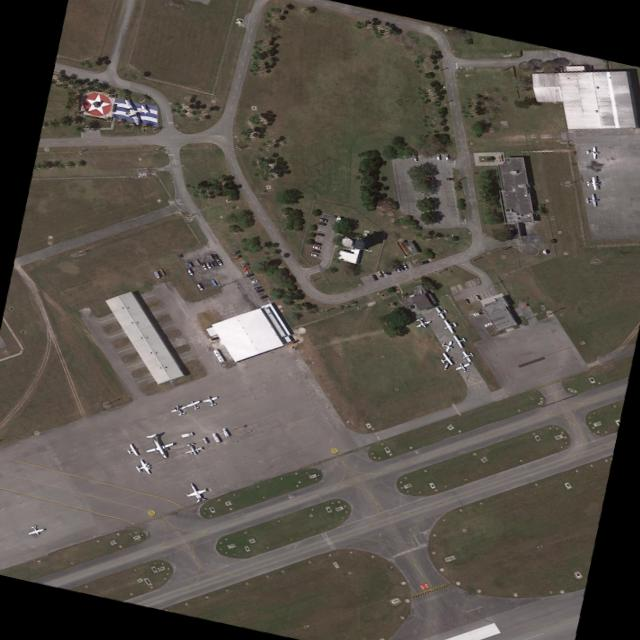large-vehicle: (210, 431, 219, 442), (179, 430, 192, 437), (220, 427, 228, 436)
plane: (137, 429, 178, 462), (119, 95, 152, 125), (180, 479, 209, 504), (130, 456, 154, 476), (180, 439, 204, 457), (438, 316, 459, 334), (449, 331, 468, 348), (167, 402, 188, 417), (410, 314, 431, 329), (436, 350, 455, 366), (452, 359, 472, 374), (24, 522, 44, 537), (122, 441, 140, 457), (199, 393, 219, 407), (432, 303, 449, 318), (457, 348, 475, 362), (183, 398, 202, 411), (439, 337, 454, 352), (583, 193, 600, 206), (584, 175, 599, 189), (584, 145, 598, 158)
small-vehicle: (417, 258, 428, 264), (238, 261, 249, 267), (194, 282, 202, 290), (481, 320, 491, 326), (229, 249, 239, 255), (441, 361, 448, 369), (199, 261, 206, 269), (206, 253, 214, 260), (185, 267, 192, 275), (214, 257, 221, 265), (210, 252, 218, 259), (311, 247, 320, 253), (244, 271, 253, 277), (232, 253, 241, 259), (473, 293, 480, 300), (397, 263, 404, 270), (393, 264, 400, 271), (204, 261, 211, 268), (207, 260, 214, 267), (375, 270, 383, 276), (315, 231, 324, 236), (209, 335, 218, 340), (309, 251, 318, 256), (258, 293, 267, 298), (254, 287, 263, 292), (252, 284, 261, 289), (240, 265, 249, 270), (400, 262, 407, 268), (383, 267, 390, 273), (379, 268, 386, 274), (192, 258, 199, 264), (185, 260, 192, 266), (211, 259, 217, 266), (311, 244, 319, 249), (249, 278, 257, 283), (242, 269, 250, 274), (434, 153, 440, 159), (463, 297, 469, 303), (444, 176, 453, 180), (317, 217, 326, 221), (312, 241, 321, 245), (318, 221, 326, 225), (443, 153, 448, 159), (412, 155, 417, 161)
